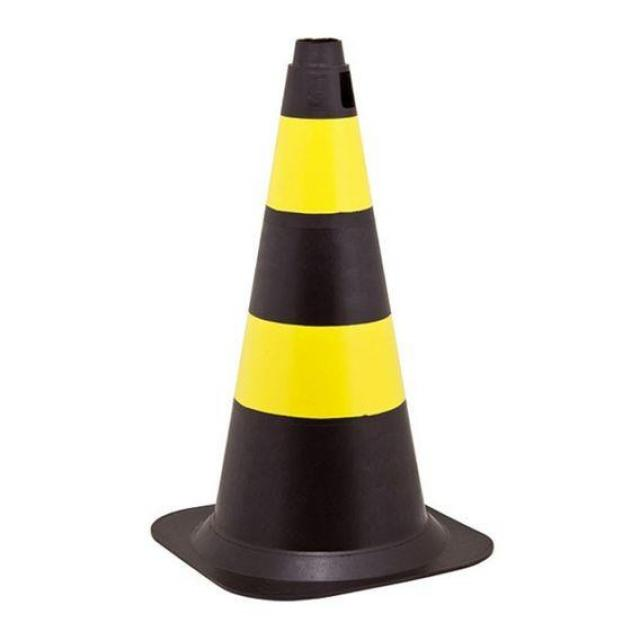cone: (142, 35, 526, 582)
